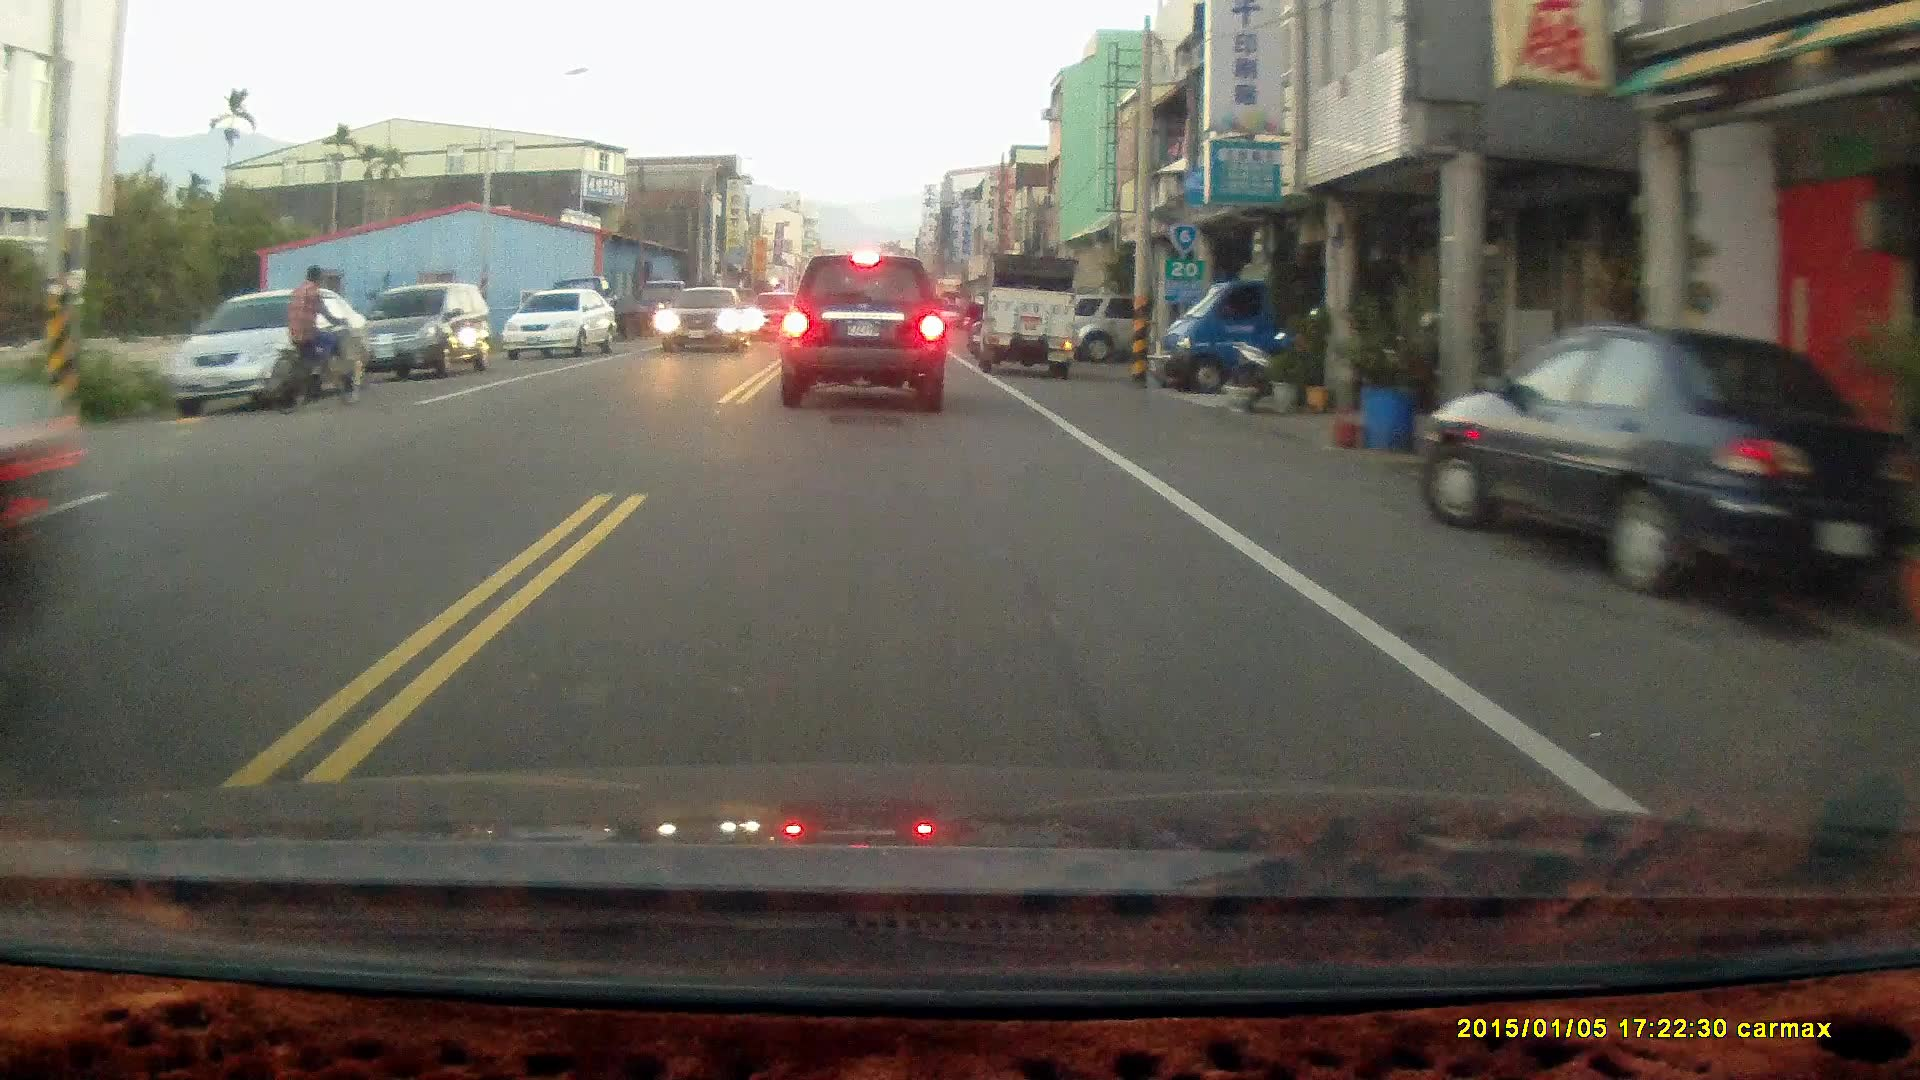rider: (263, 258, 367, 415), (962, 292, 987, 357)
vehicle: (1426, 322, 1881, 600), (781, 250, 949, 409), (167, 292, 374, 420), (1152, 248, 1321, 394), (349, 281, 499, 384), (979, 256, 1080, 378), (502, 288, 621, 362), (667, 286, 752, 352), (631, 279, 702, 342)
